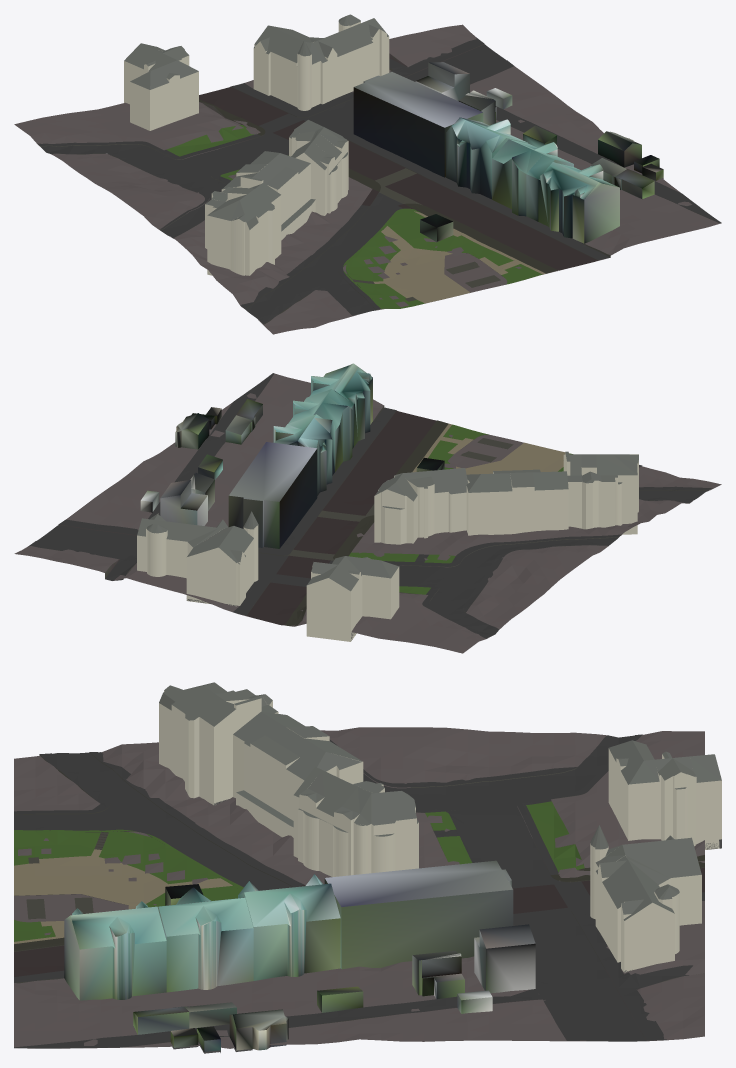
3 renders of one model, top to bottom at view 1: azimuth 30°, elevation 25°; view 2: azimuth 150°, elevation 25°; view 3: azimuth 270°, elevation 25°, orthographic. The views are drawn at different scales.
Parts seen in each view (by area): view 1: c_m05_p11; view 2: c_m05_p11; view 3: c_m05_p11.
Part boxes in pixels (x1,y1,x2,y2): c_m05_p11: (14,14,721,334); c_m05_p11: (14,363,721,653); c_m05_p11: (14,682,721,1053).
Size of the model in its own units: 131 by 25.37 by 131.
